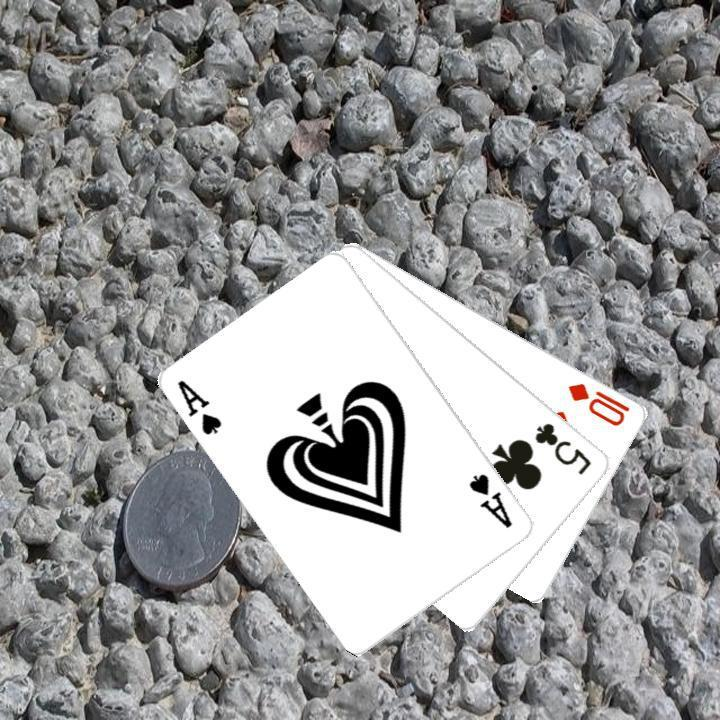10: (564, 378, 632, 428)
5: (530, 418, 595, 477)
A: (173, 375, 225, 438), (465, 469, 515, 530)
